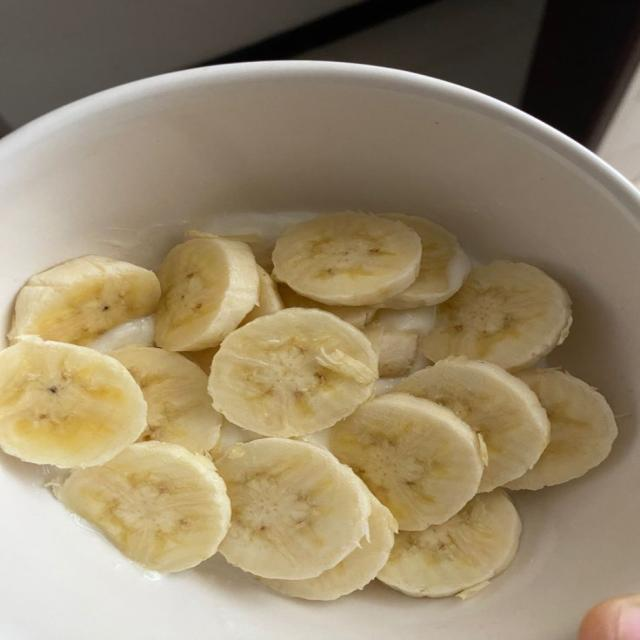banana slice: (56, 442, 231, 572), (217, 438, 371, 579), (209, 308, 377, 436), (331, 393, 483, 530), (394, 358, 549, 491), (0, 337, 146, 467), (421, 261, 571, 369), (378, 490, 520, 597), (261, 492, 397, 600), (273, 212, 421, 305), (8, 256, 159, 345), (507, 370, 617, 489), (110, 346, 221, 453), (155, 239, 259, 350), (381, 214, 471, 308), (363, 307, 435, 377), (279, 284, 376, 328), (363, 321, 418, 377), (241, 265, 284, 324), (88, 316, 154, 352), (211, 417, 264, 459), (374, 306, 436, 335), (181, 348, 218, 375)
